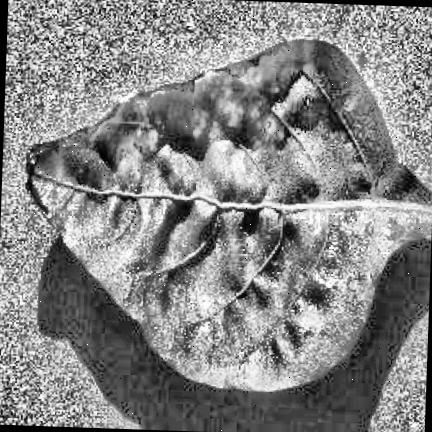leaf: (29, 38, 432, 390)
